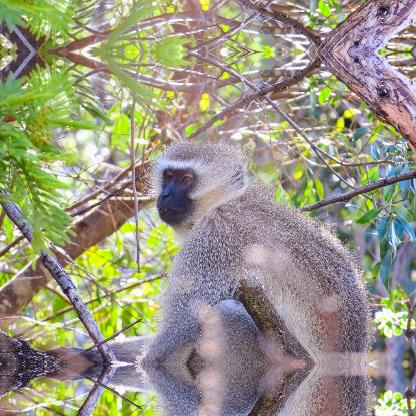Monkey: (107, 143, 373, 363), (107, 365, 374, 415)
